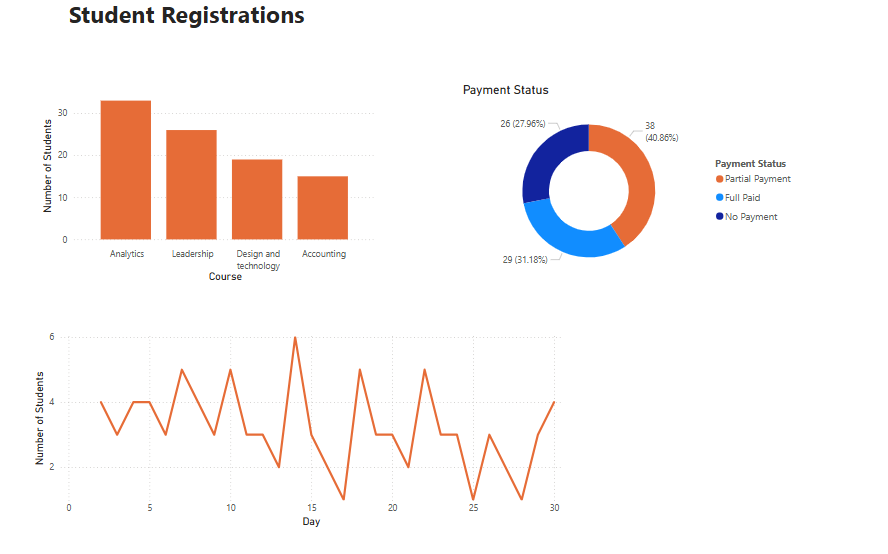

The page's visual inventory and layout, read from the dashboard file:
{"tool":"powerbi","page":{"name":"Page 1","canvas":[1280,1000],"ordinal":0},"visuals":[{"type":"columnChart","fields":{"Category":["Ring of Power (2).Course"],"Y":["CountNonNull(Ring of Power (2).Name)"]},"box":[61.8,120.9,469.7,280.2],"z":0},{"type":"donutChart","title":" Payment Status","fields":{"Category":["Ring of Power (2).Payment Status"],"Y":["CountNonNull(Ring of Power (2).Payment Status)"]},"box":[640,120.9,469.7,280.2],"z":1},{"type":"lineChart","fields":{"Y":["CountNonNull(Ring of Power (2).Name)"],"Category":["Ring of Power (2).Registration Date.Variation.Date Hierarchy.Day"]},"box":[50.8,457.3,734.8,280.2],"z":2},{"type":"textbox","box":[98.9,0,469.7,74.2],"z":3}]}

Visuals, with their boxes on the page's 1280x1000 design canvas (x1, y1, x2, y2). These are canvas units, not pixel positions in the 888x554 screenshot, which may show the page scaled, cropped or inside an application window:
columnChart - Ring of Power (2).Course x CountNonNull(Ring of Power (2).Name): box(62, 121, 532, 401)
" Payment Status" donutChart: box(640, 121, 1110, 401)
lineChart - CountNonNull(Ring of Power (2).Name) x Ring of Power (2).Registration Date.Variation.Date Hierarchy.Day: box(51, 457, 786, 738)
textbox: box(99, 0, 569, 74)
